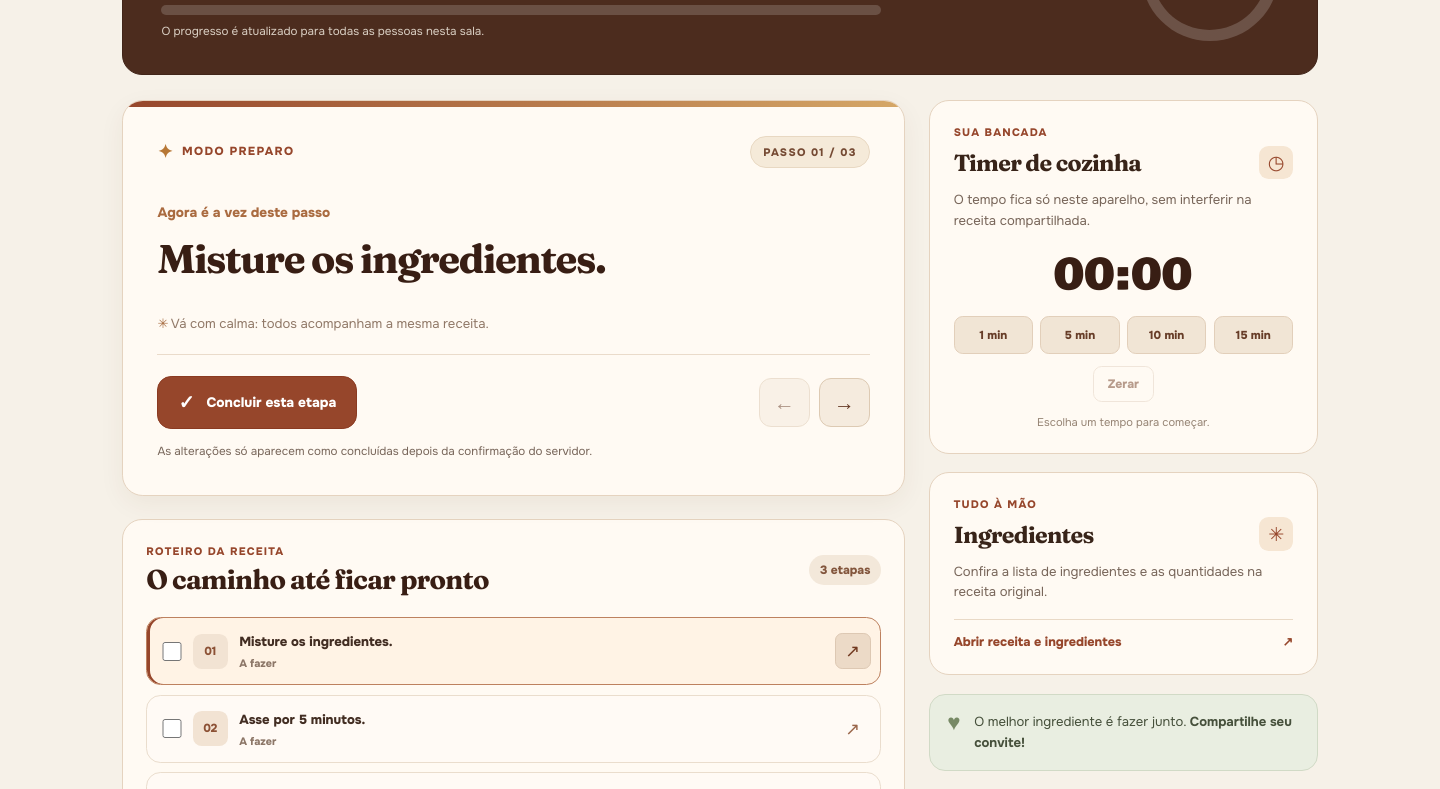
Scenario: Cozinhar junto — experiência guiada › oferece timer sugerido pelo texto, sem modificar a receita
(page scrolled)
Click the button named "Próxima etapa" at (844, 402), box top-left (819, 378), bottom-right (870, 427)
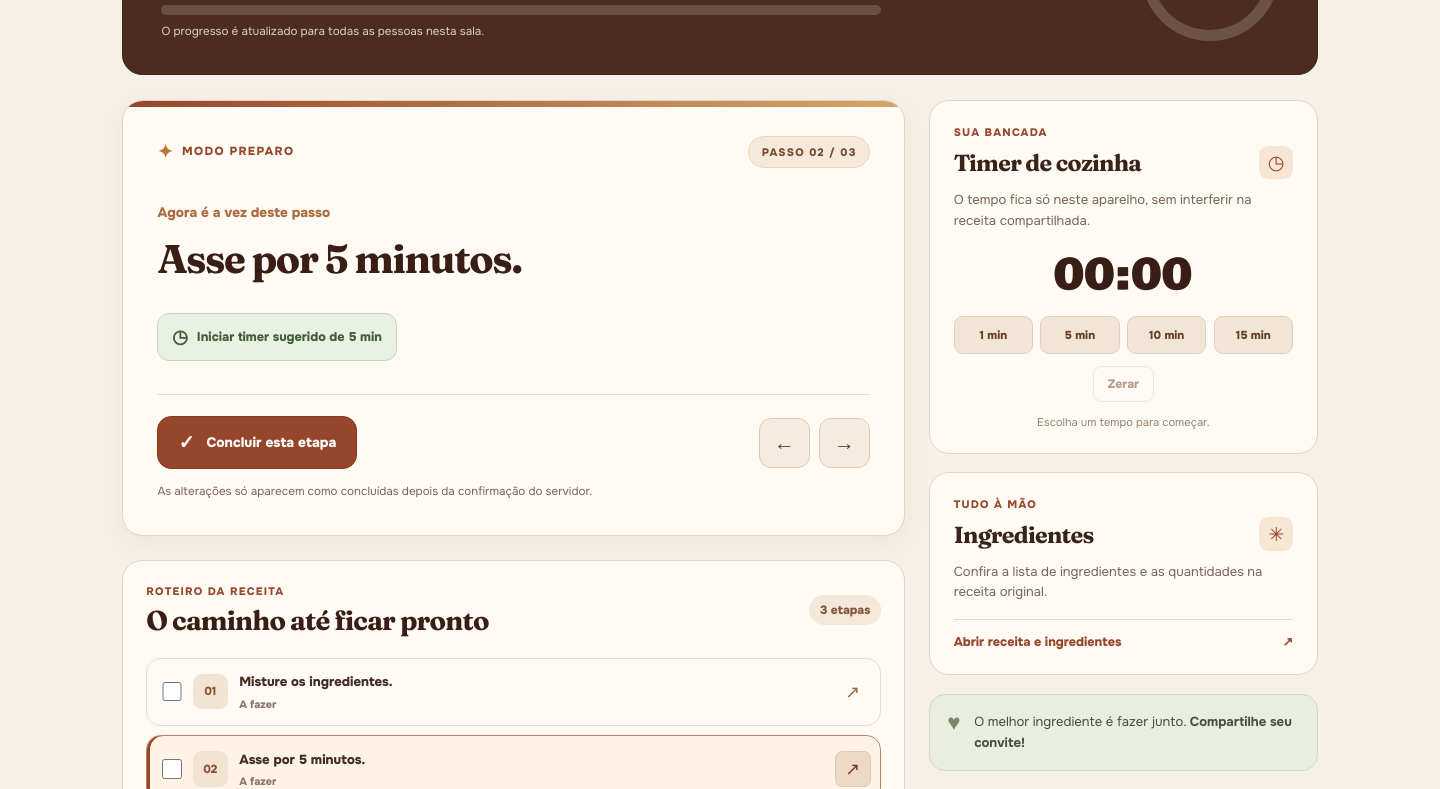
Click the button "◷ Iniciar timer sugerido de 5 min" at (277, 337), box top-left (157, 313), bottom-right (396, 361)
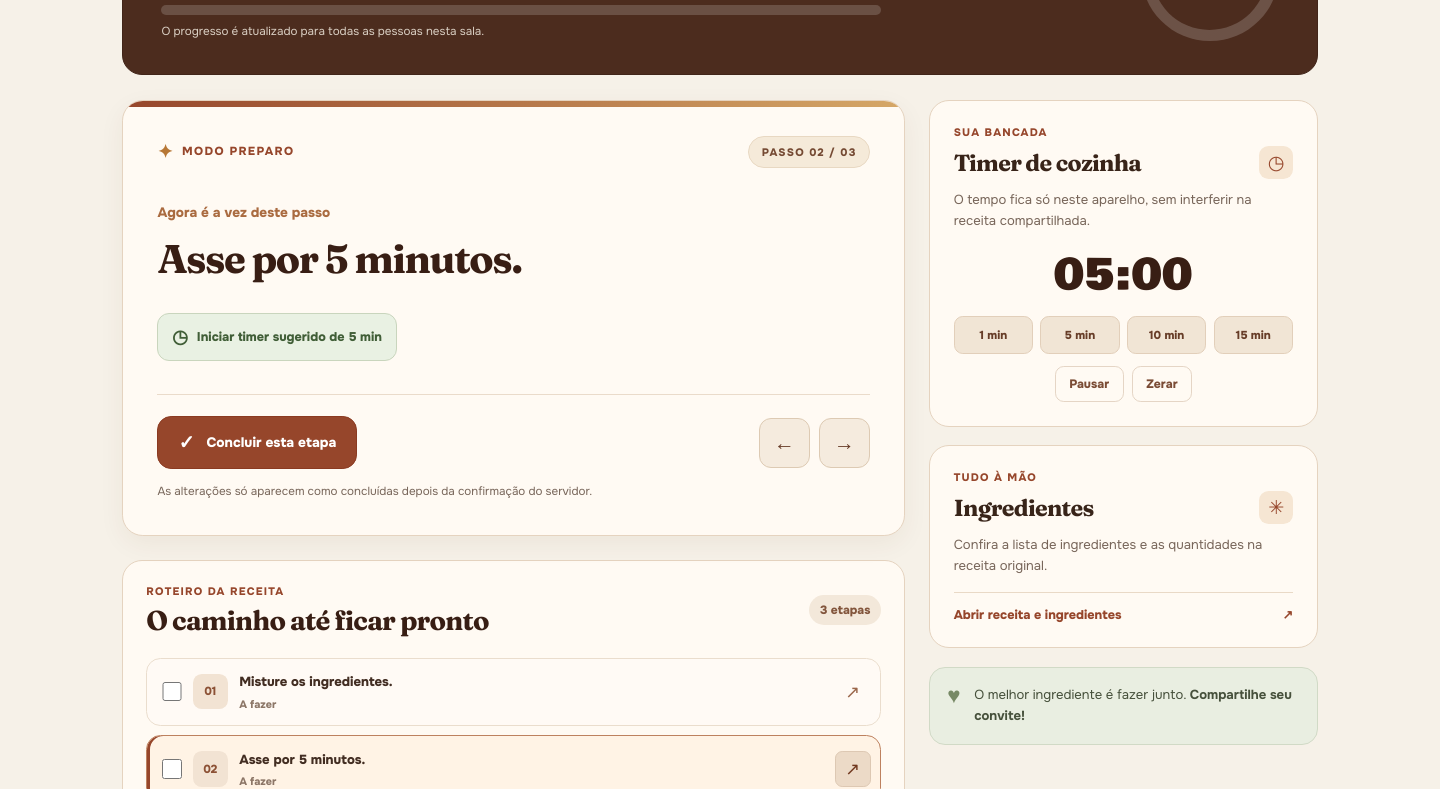
Result: the text "05:00" is shown at top-left (1054, 243), bottom-right (1193, 308)
Click the button "Pausar" at (1089, 384), box top-left (1054, 366), bottom-right (1124, 402)
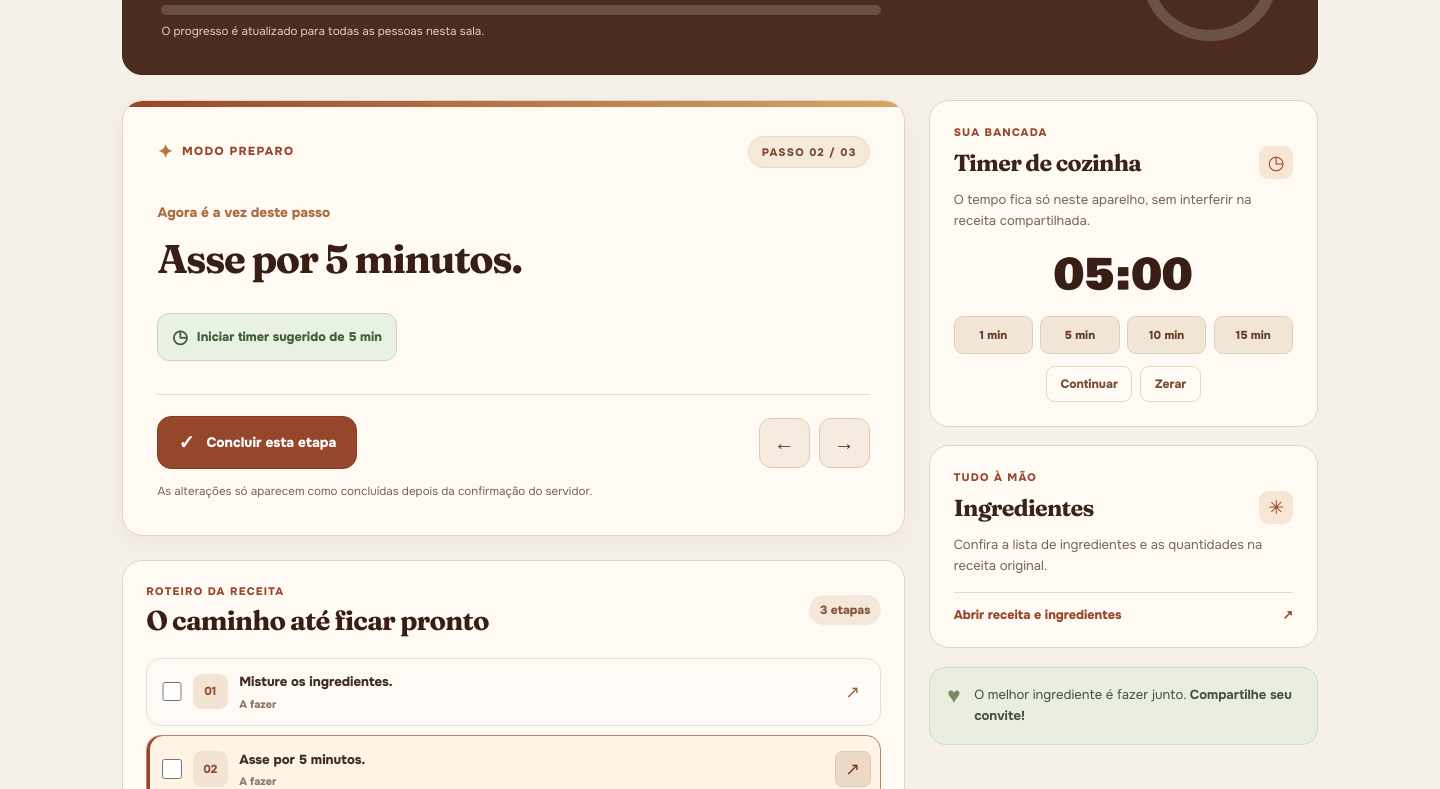
Click the button "Zerar" at (1171, 384), box top-left (1140, 366), bottom-right (1201, 402)
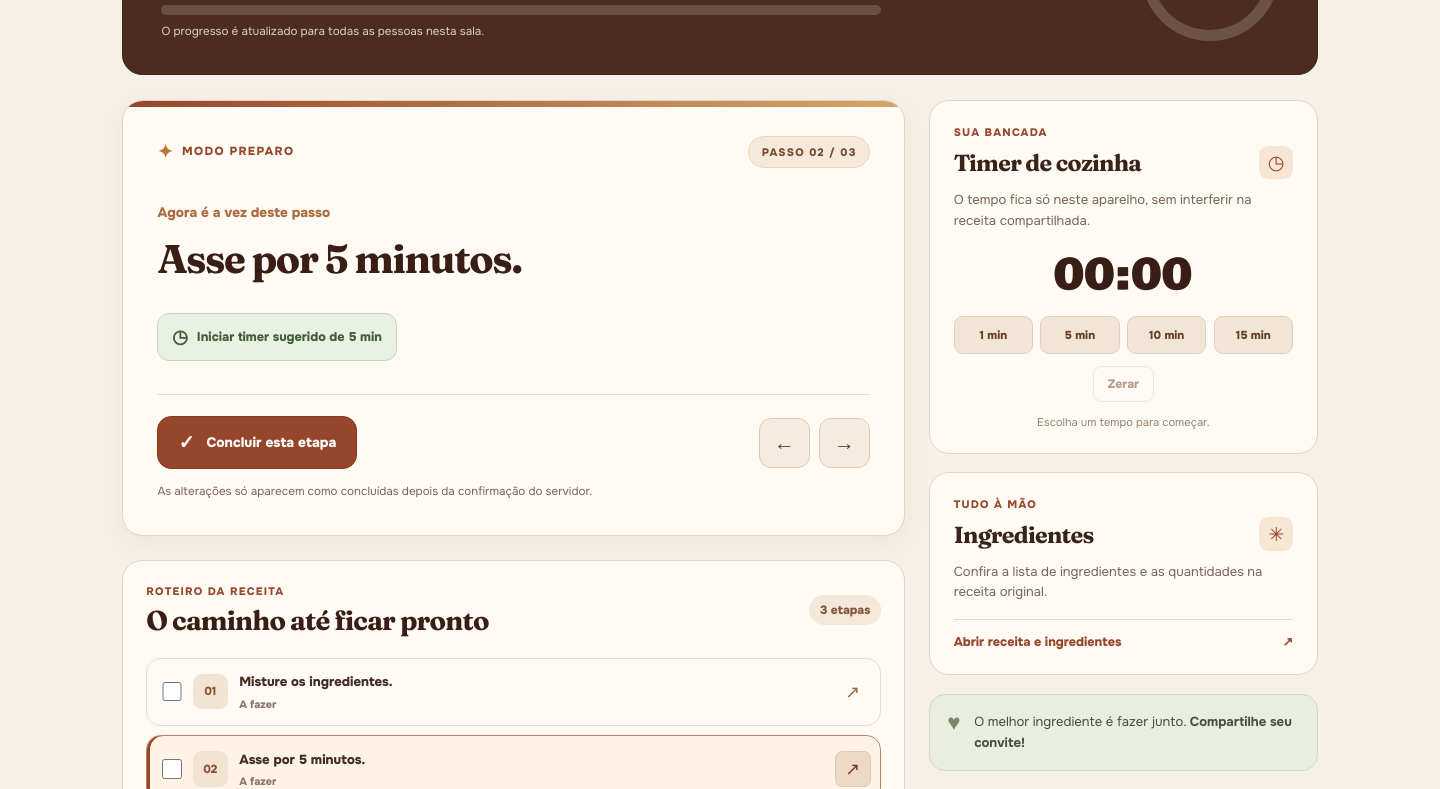
Result: the text "00:00" is shown at top-left (1054, 243), bottom-right (1193, 308)
